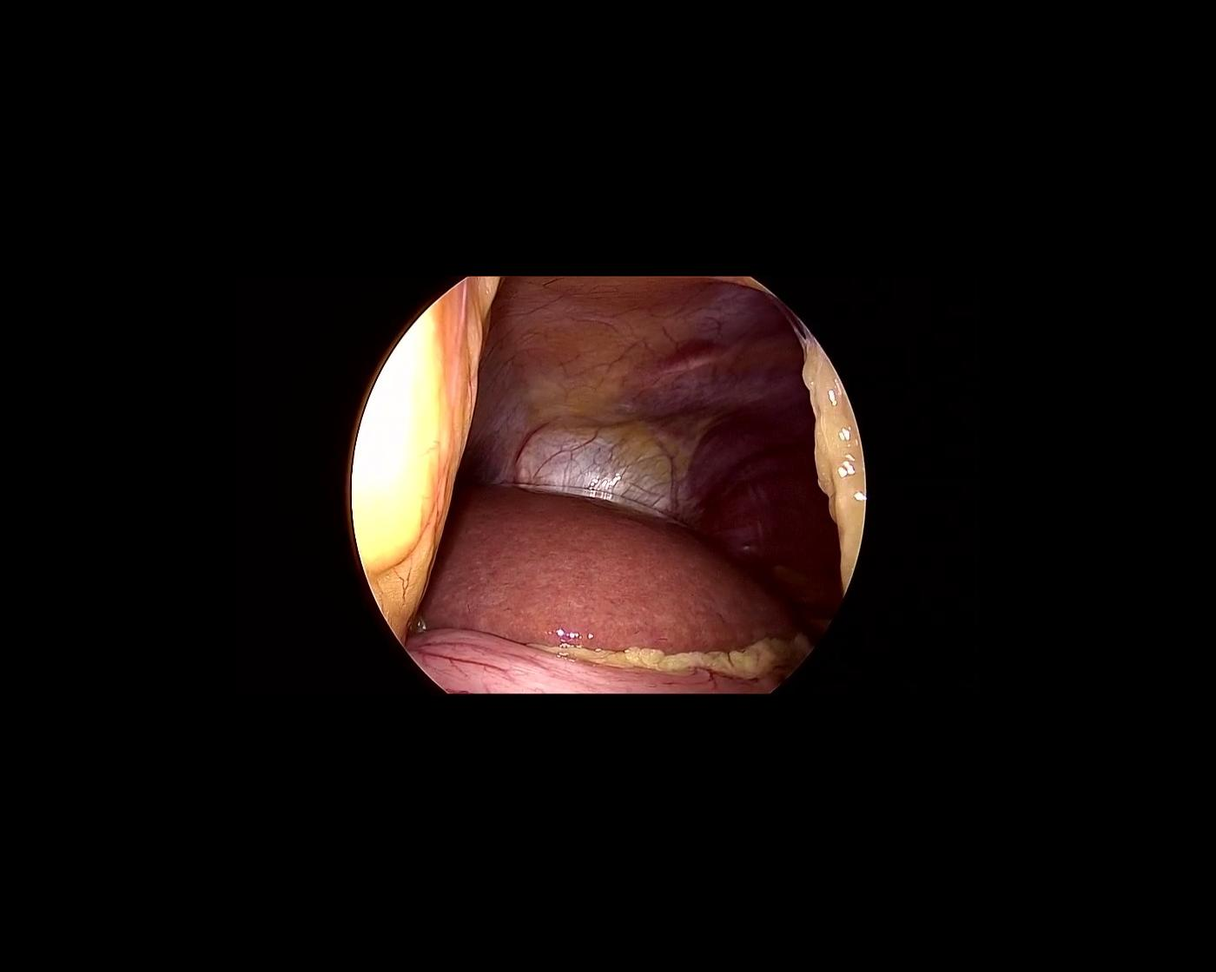Liver: (414, 472, 816, 700)
